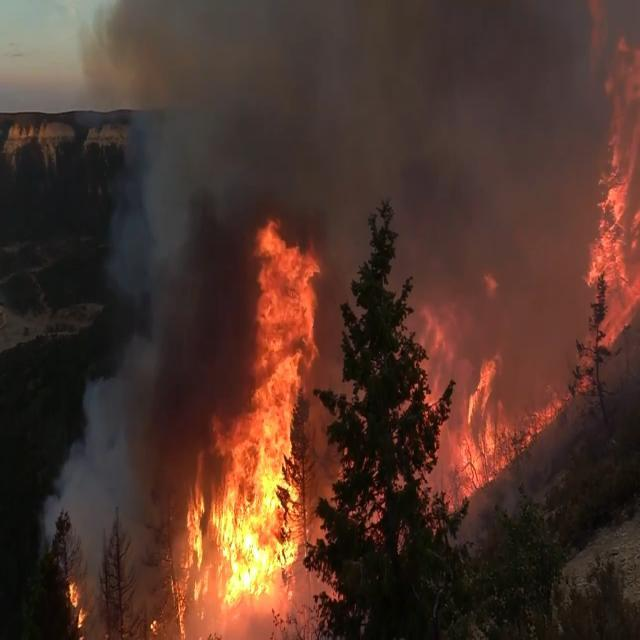Fire: (413, 1, 640, 521), (66, 217, 330, 640)
